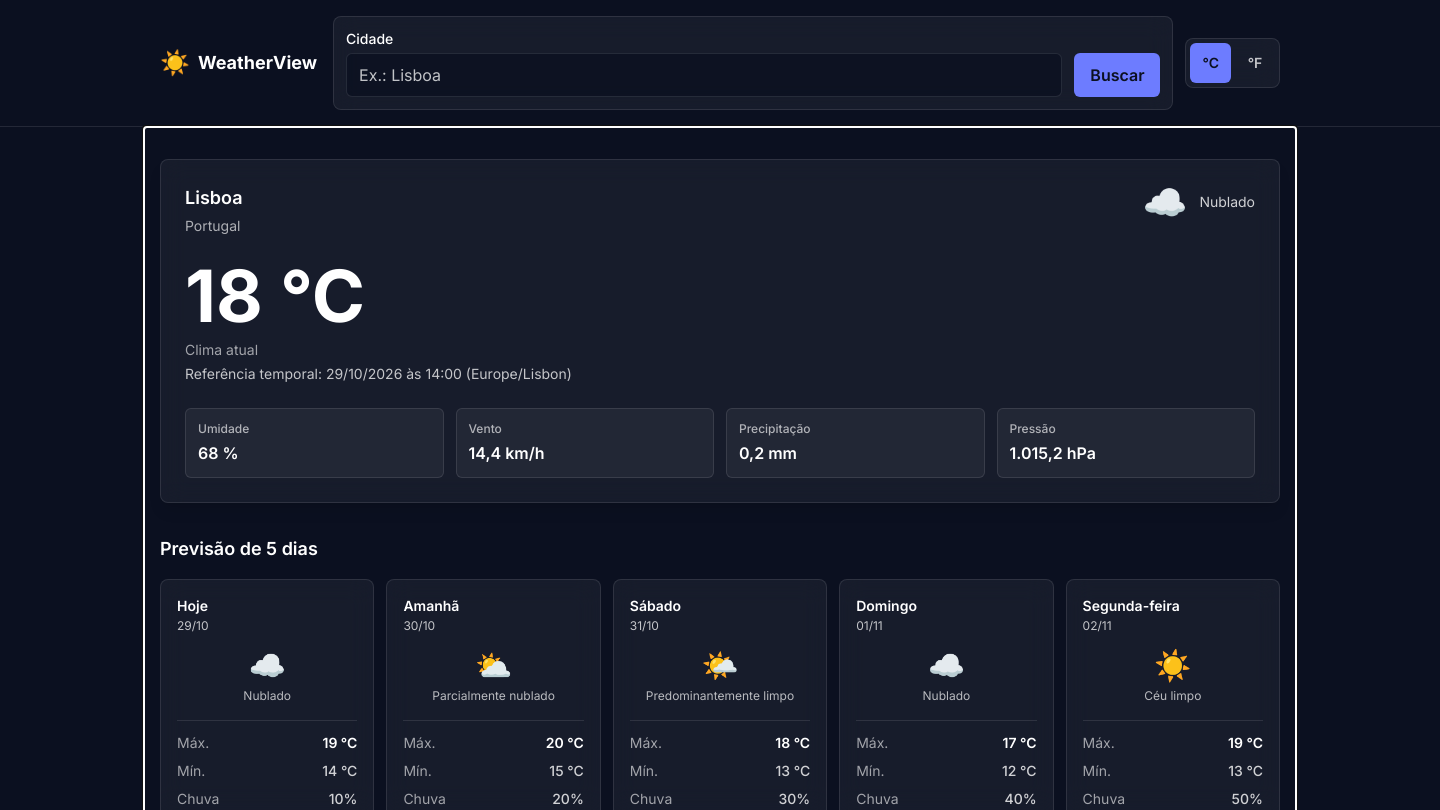
it: App › renderiza o mock e deriva a temperatura quando a unidade muda
The image size is (1440, 810).
Check: the heading "Lisboa" is shown, box [185,184,242,212]
Check: the text "Referência temporal: 29/10/2026 às 14:00 (Europe/Lisbon)" is shown, box [185,365,572,382]
What coordinates should you click on to do the following:
click the button named "Fahrenheit"
I would click on:
 (1255, 63)
Its box is [1235,43,1275,83].
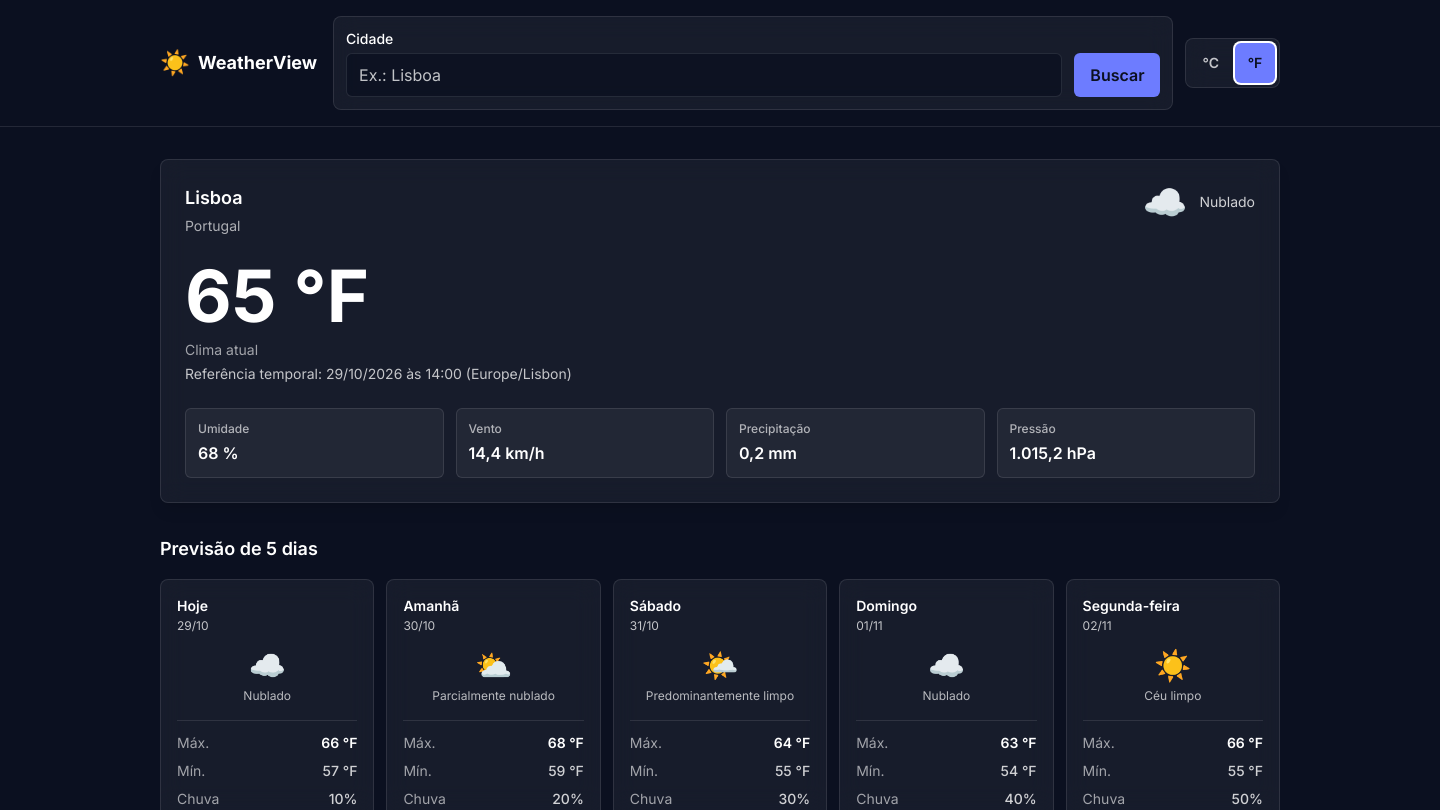
Check: the text "65 °F" is shown, box [185,252,369,339]
